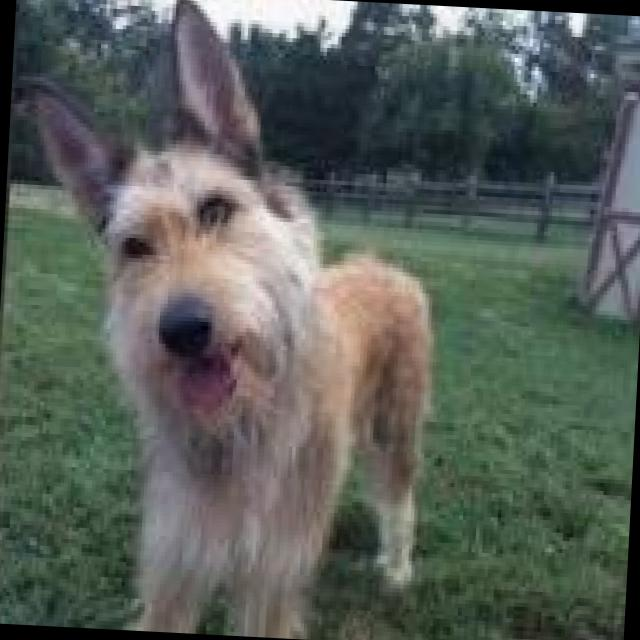Perro: (0, 0, 465, 640)
